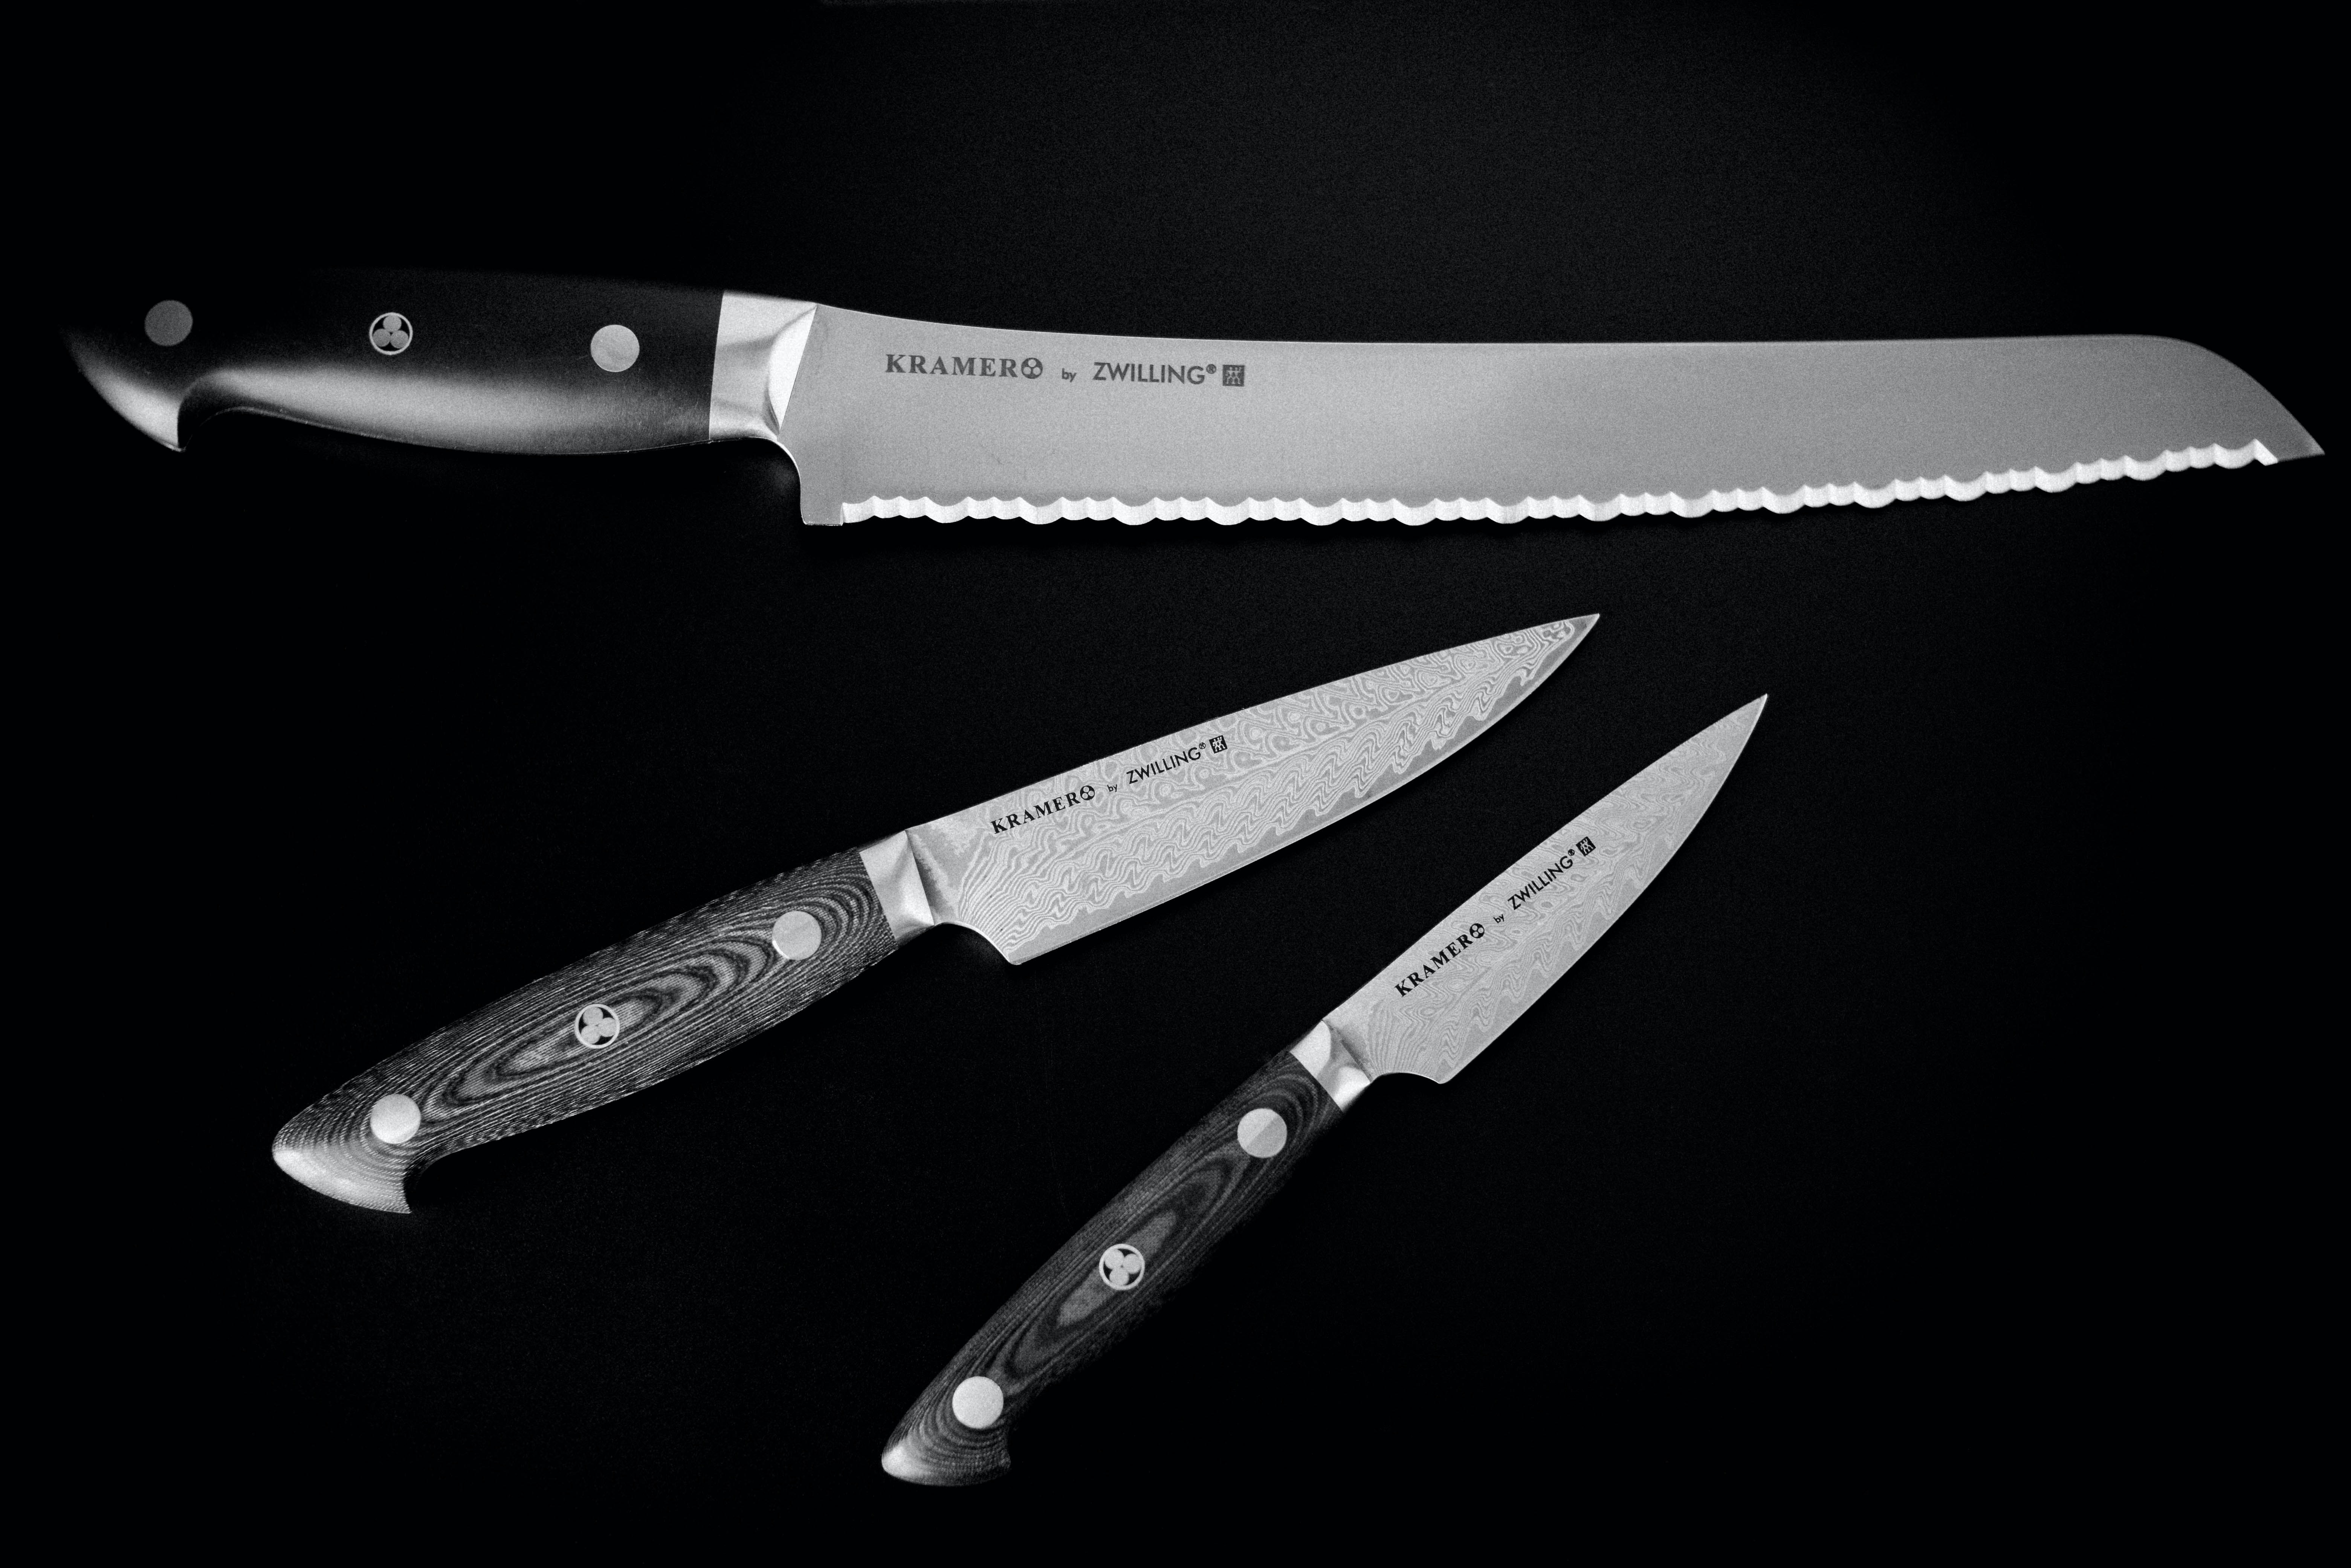knife: (82, 177, 2335, 1519)
